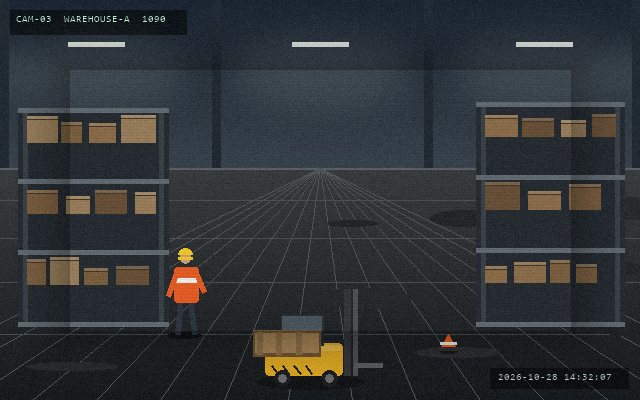cone: (438, 332, 458, 353)
forklift: (261, 287, 384, 389)
pallet: (251, 328, 322, 358)
person: (166, 246, 206, 337)
shelf: (476, 102, 624, 322), (18, 108, 168, 322)
